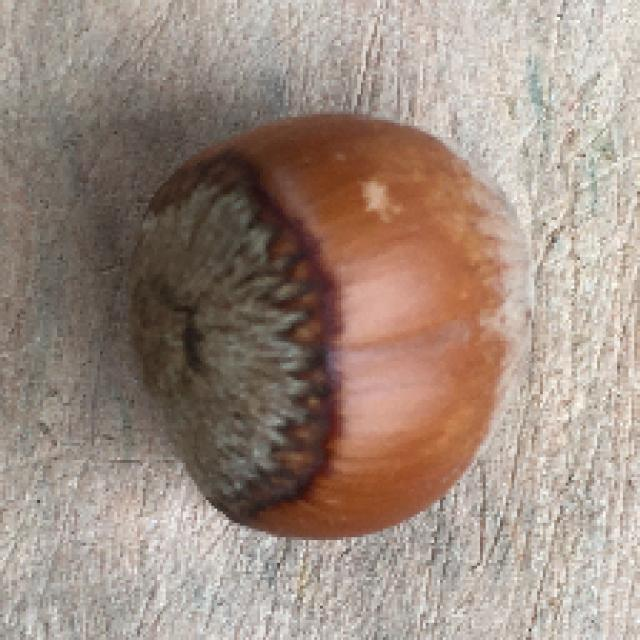qualityHazelnut: (128, 108, 539, 541)
